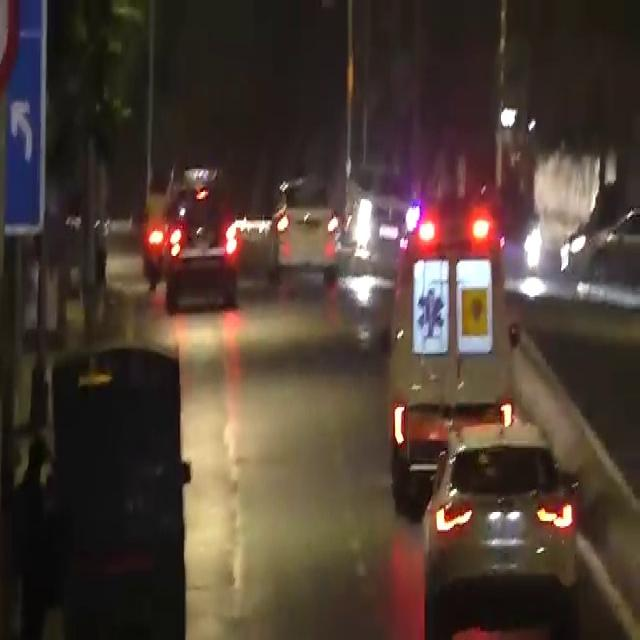ambulance: (392, 202, 532, 428)
